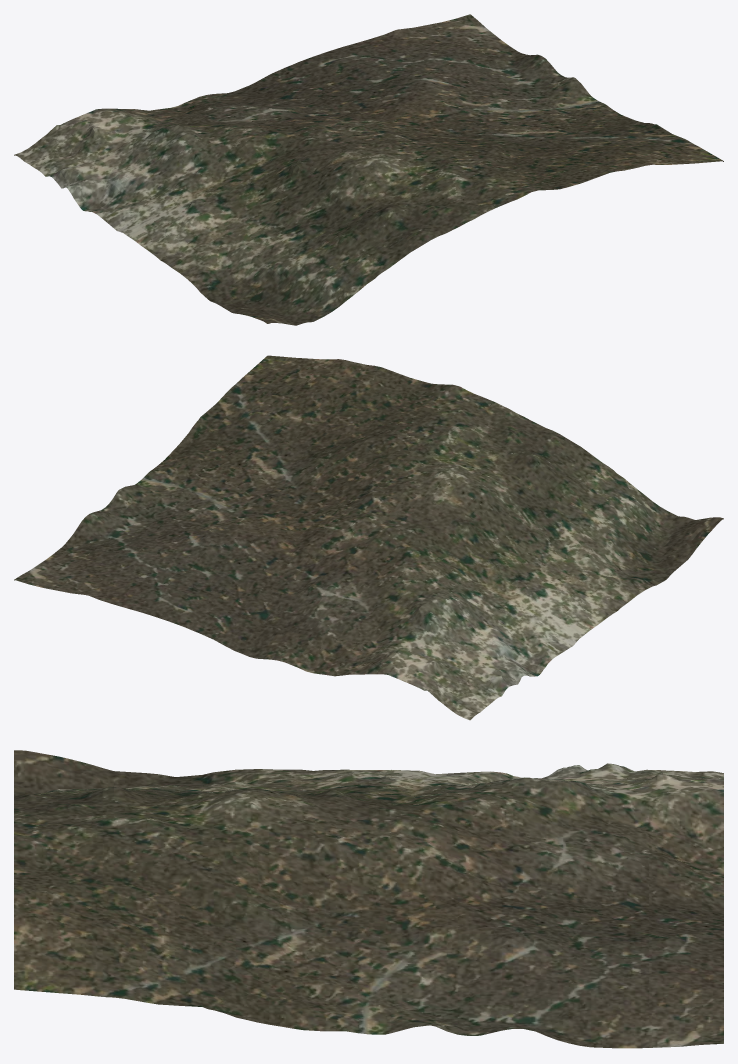
3 renders of one model, top to bottom at view 1: azimuth 30°, elevation 25°; view 2: azimuth 150°, elevation 25°; view 3: azimuth 270°, elevation 25°, orthographic. The views are drawn at different scales.
Bounding box in the file's own units: 500 × 94.62 × 481.
Materials: 1 (1 with a texture image).
